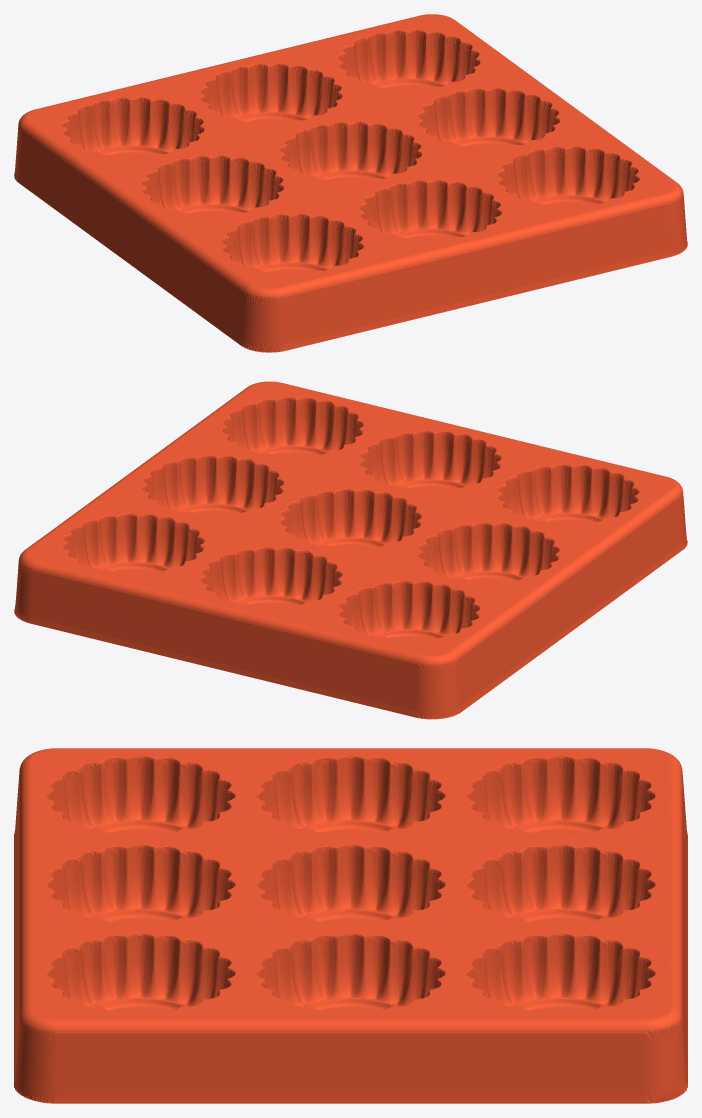
Rendered from mold.glb.
3 renders of one model, top to bottom at view 1: azimuth 30°, elevation 25°; view 2: azimuth 150°, elevation 25°; view 3: azimuth 270°, elevation 25°, orthographic. The views are drawn at different scales.
Visible parts, largest first — view 1: geometry_0; view 2: geometry_0; view 3: geometry_0.
Part boxes in pixels (bbox=[...]): geometry_0: bbox=[14, 14, 687, 352]; geometry_0: bbox=[14, 381, 687, 719]; geometry_0: bbox=[14, 748, 687, 1103].
Bounding box in the file's own units: 0.1387 × 0.0175 × 0.1387.
